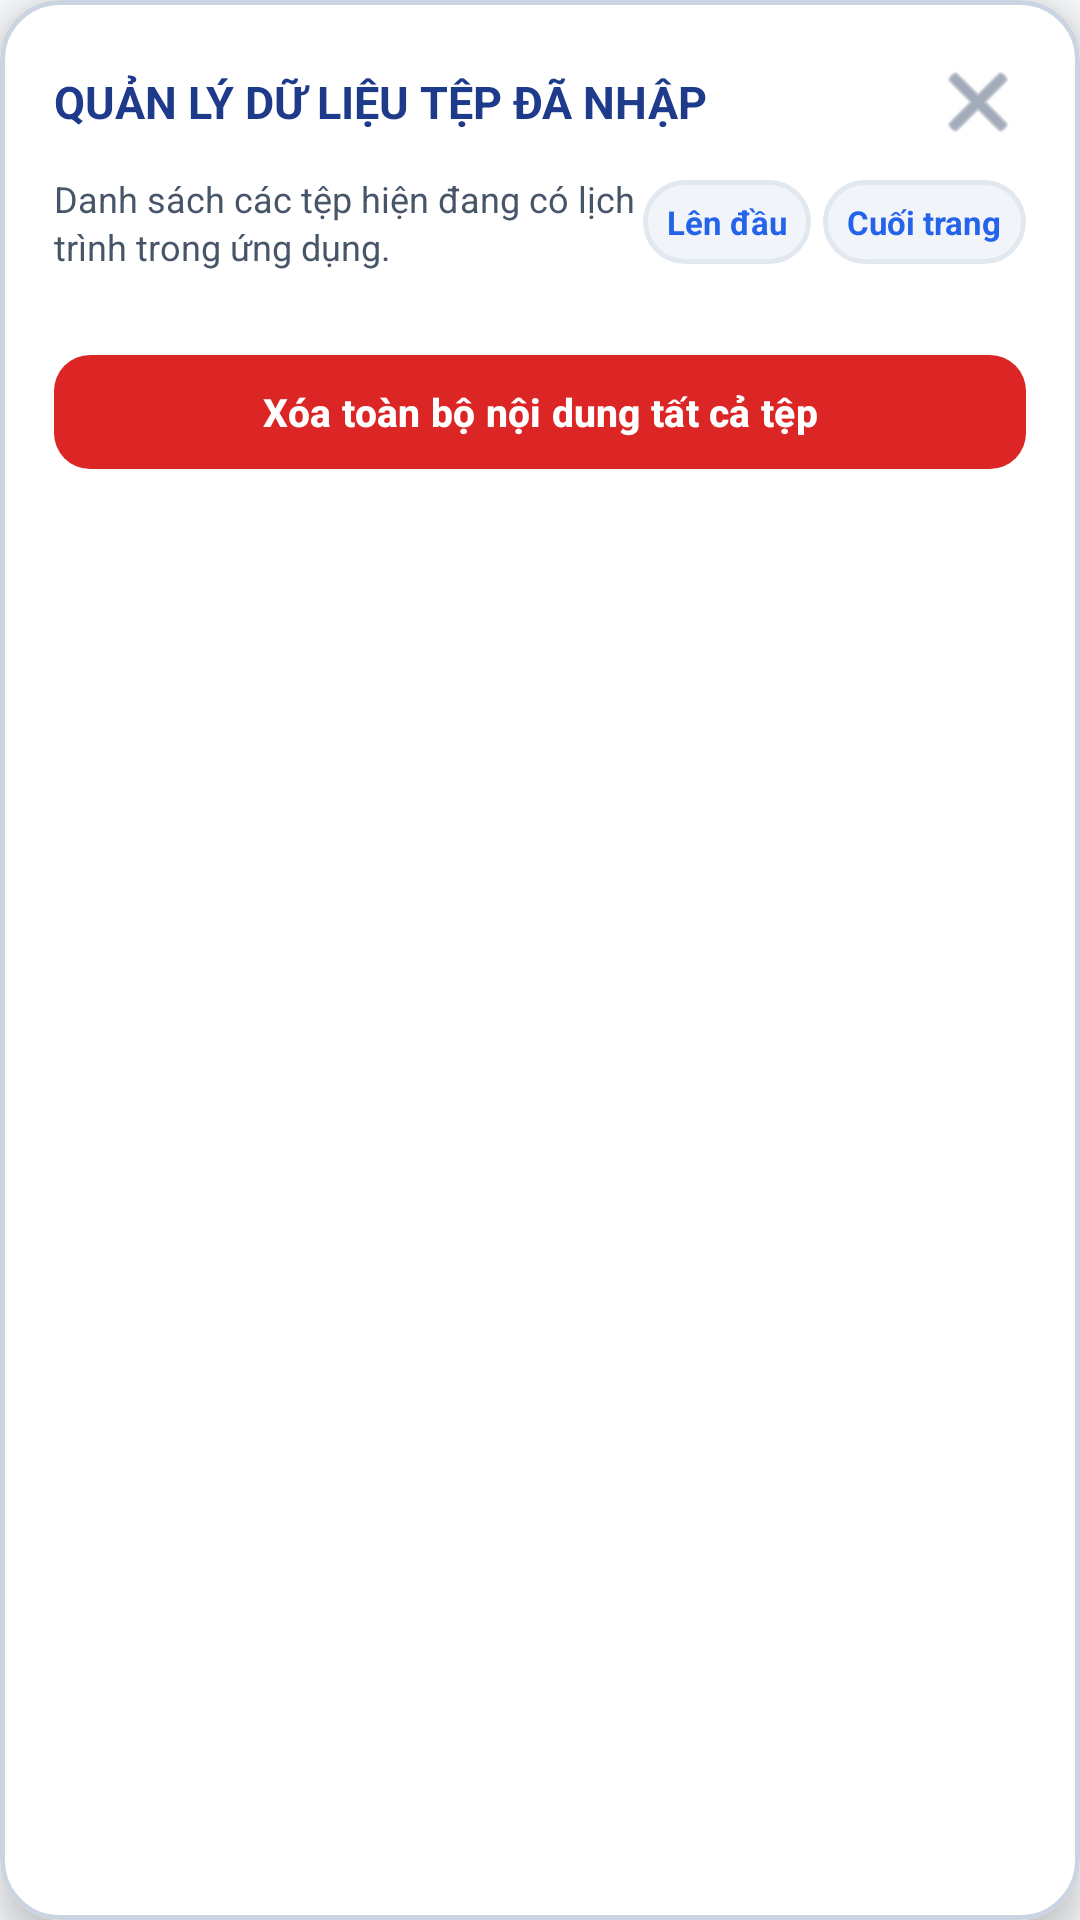

Point at icon controls on the screen. Image size 1080x1920, points as (x,y).
Đóng: (978,102)
